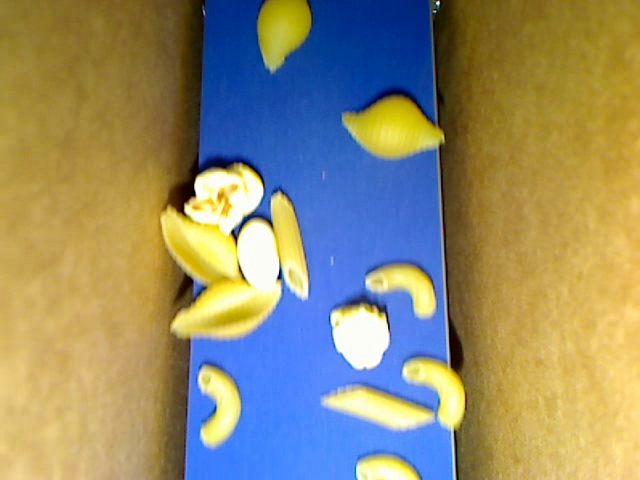elbow: (402, 355, 465, 431), (364, 262, 436, 320), (197, 363, 242, 450), (354, 453, 423, 479)
penne: (320, 382, 436, 433), (269, 191, 308, 302)
shell: (157, 203, 244, 286), (168, 280, 282, 342), (341, 95, 446, 160), (256, 1, 313, 74)
